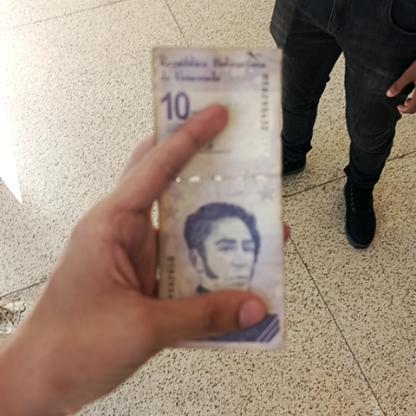ten-front-vef: (152, 47, 284, 352)
